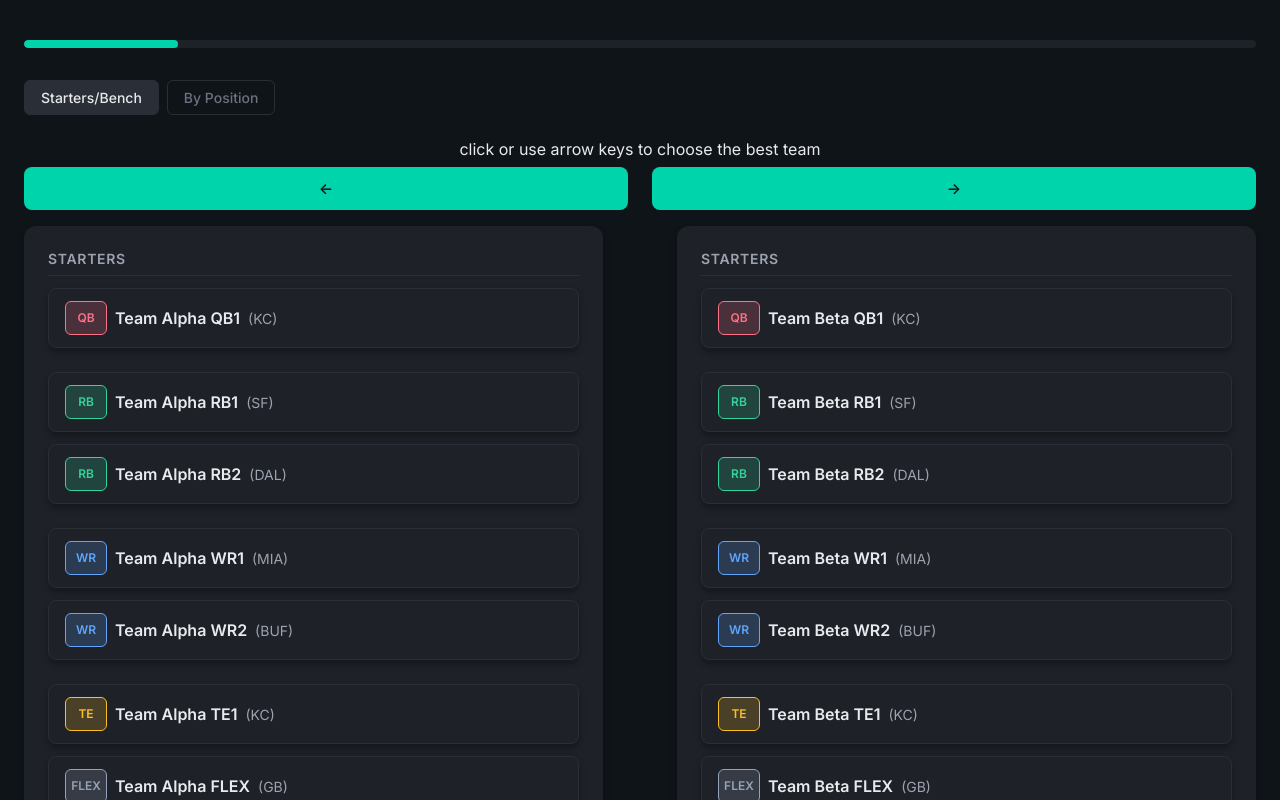
Test case: ComparisonScreen › view toggle controls both rosters simultaneously
Click the button "By Position" at x=221, y=98, box [167,80,275,115]
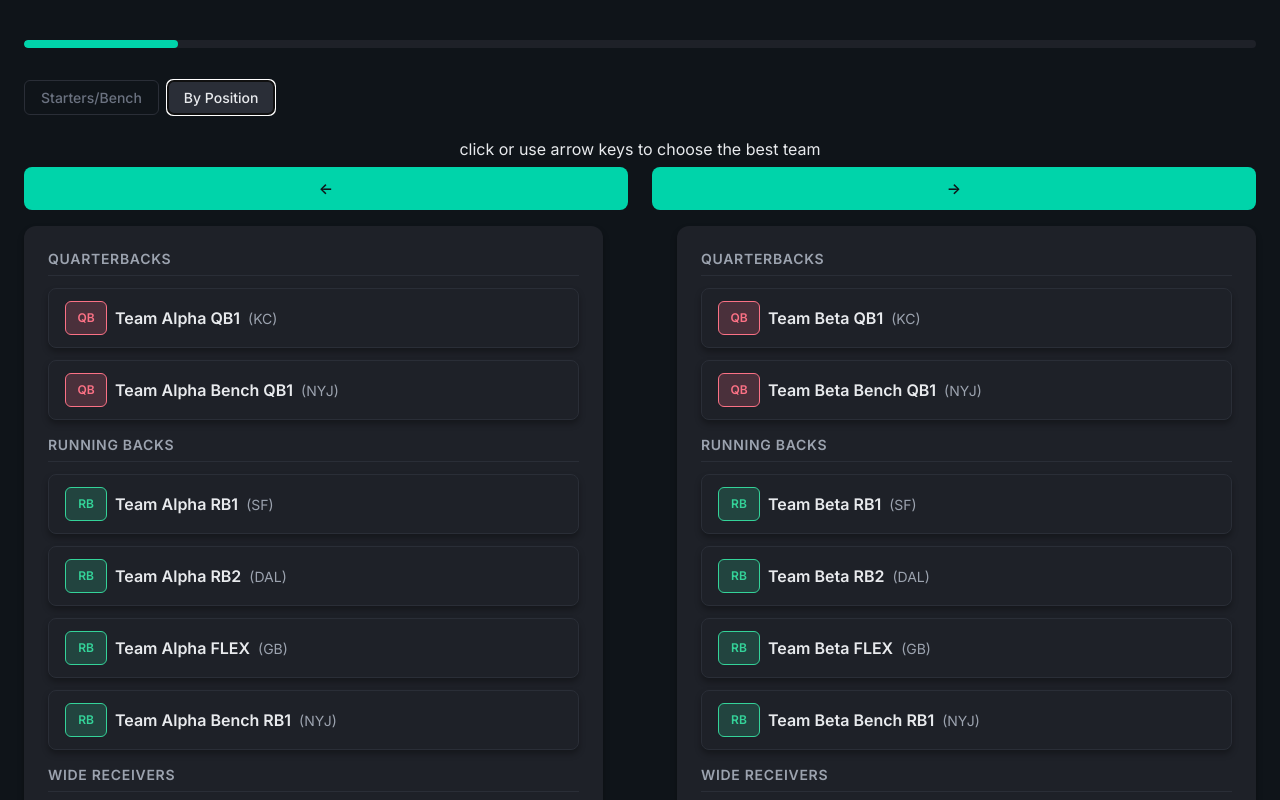
Check: the number of headings "QUARTERBACKS" is 2, box [48,250,579,276]; [701,250,1232,276]
